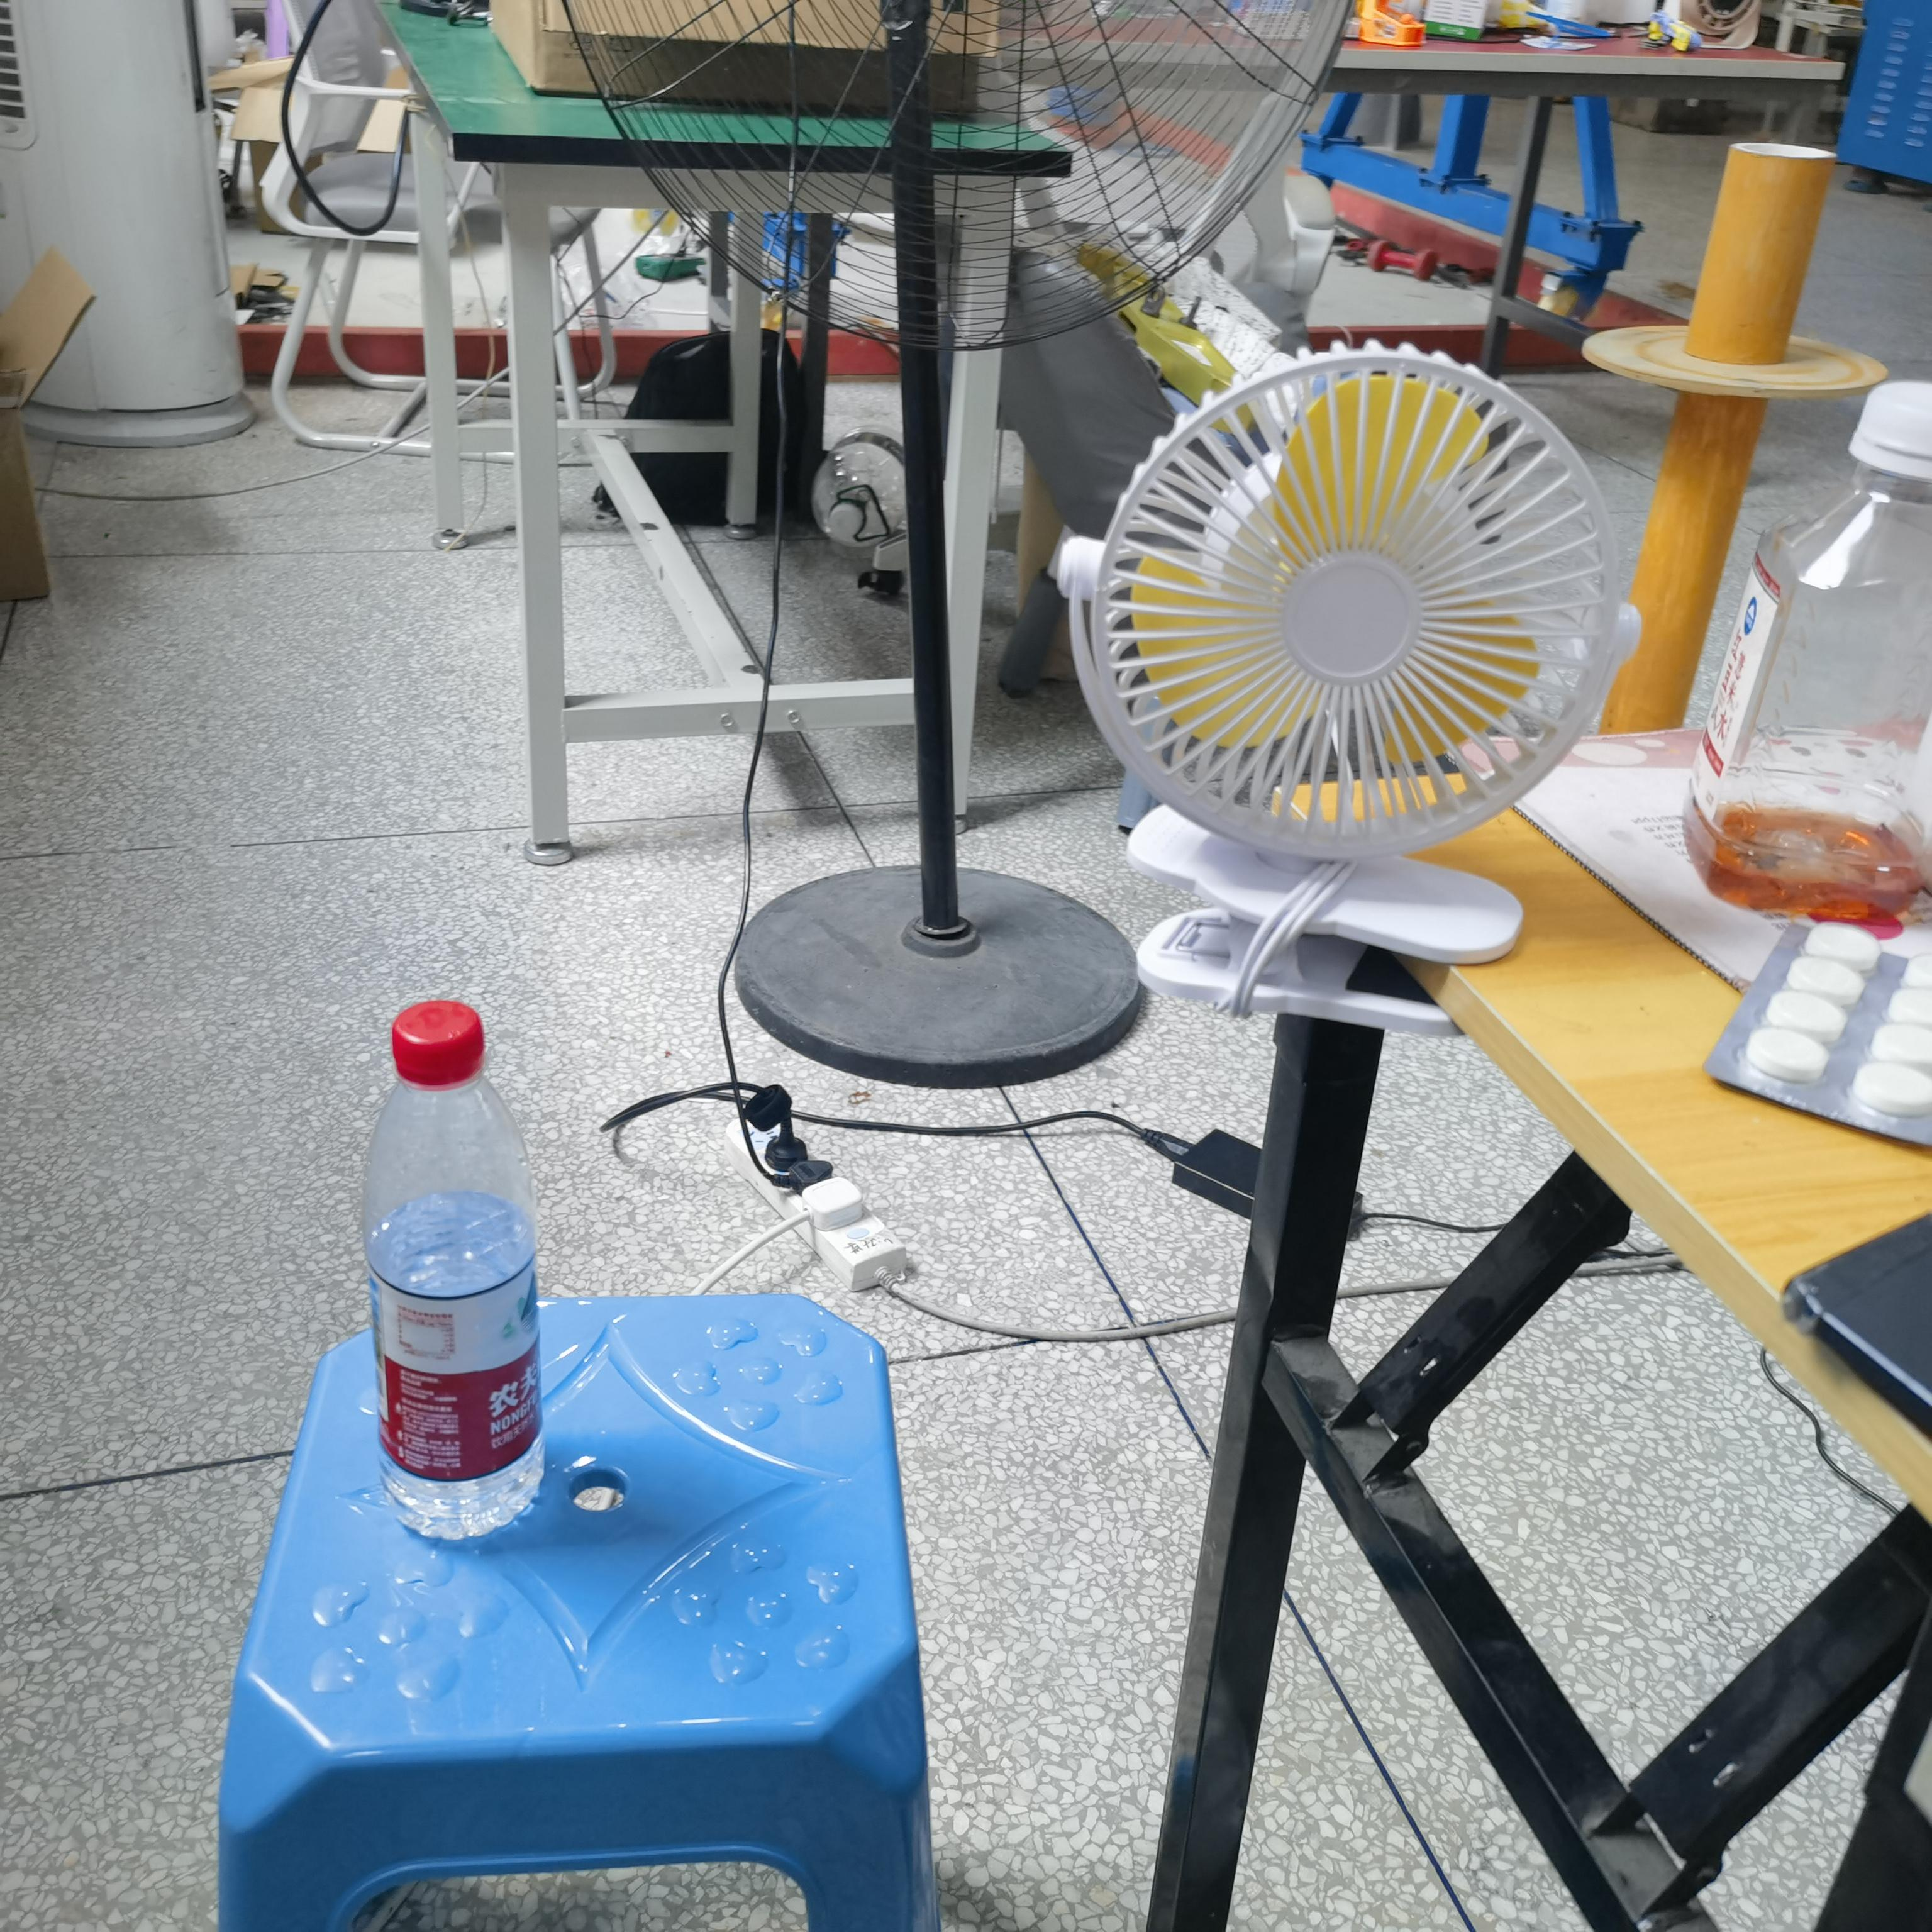bottle: (359, 991, 559, 1575)
fan: (1044, 326, 1651, 1051)
